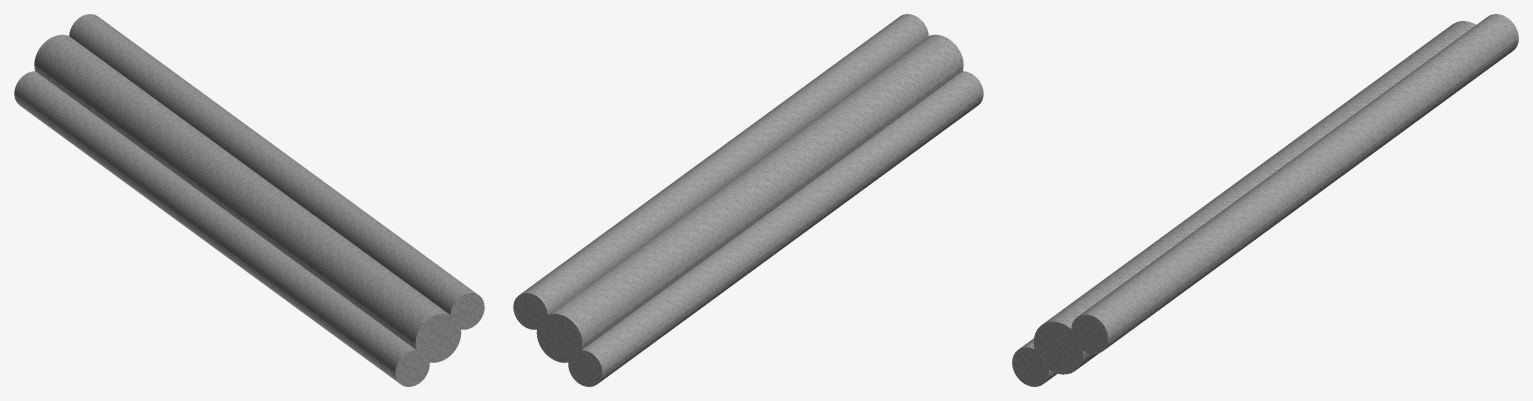
The picture shows the model from 3 angles, left to right: view 1: azimuth 30°, elevation 25°; view 2: azimuth 150°, elevation 25°; view 3: azimuth 330°, elevation 25°; orthographic projection. The views are drawn at different scales.
Visible parts, largest first — view 1: 0_1_3_3_1_3_0_2_2; view 2: 0_1_3_3_1_3_0_2_2; view 3: 0_1_3_3_1_3_0_2_2.
Part boxes in pixels (bbox=[...]): 0_1_3_3_1_3_0_2_2: bbox=[14, 14, 484, 386]; 0_1_3_3_1_3_0_2_2: bbox=[513, 14, 983, 386]; 0_1_3_3_1_3_0_2_2: bbox=[1012, 14, 1518, 386].
Bounding box in the file's own units: 1.56 × 1.33 × 11.53.
3 materials, 3 textured.
